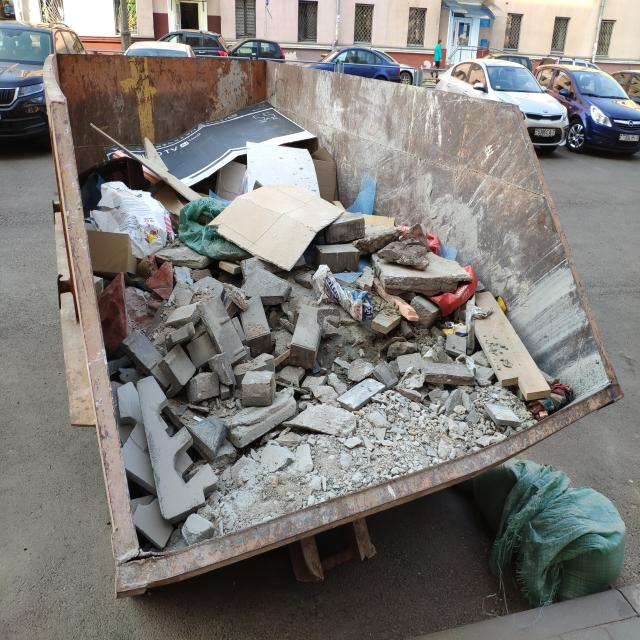entulho: (104, 100, 321, 194), (205, 187, 358, 276), (118, 364, 208, 505), (461, 281, 552, 397), (534, 66, 638, 162), (90, 182, 174, 258), (374, 239, 472, 294), (178, 186, 247, 260), (313, 266, 374, 320), (88, 225, 137, 278), (526, 367, 576, 416), (343, 170, 377, 216), (183, 514, 216, 544)
